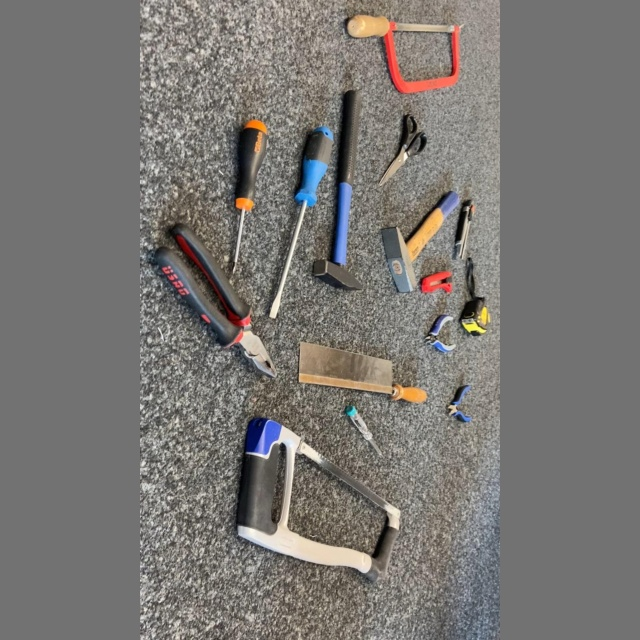scissor: (376, 112, 431, 190)
screwdriver: (263, 122, 336, 328), (225, 114, 276, 280), (342, 403, 391, 465)
